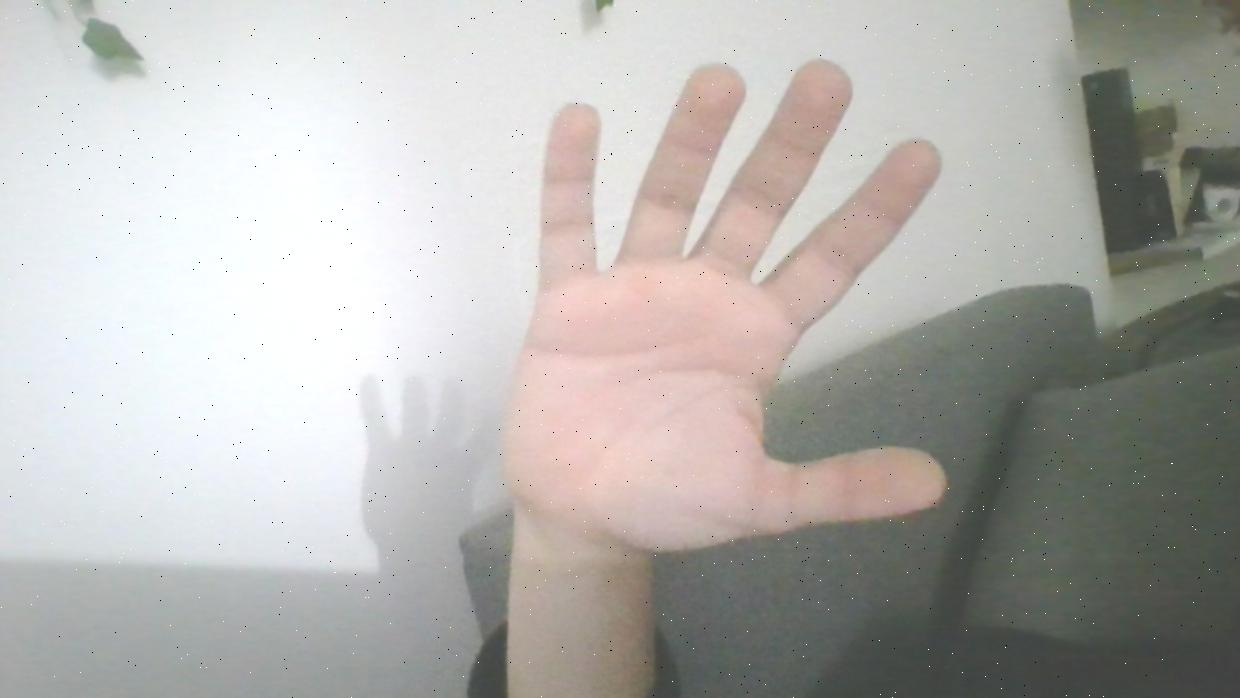hi: (483, 27, 979, 590)
